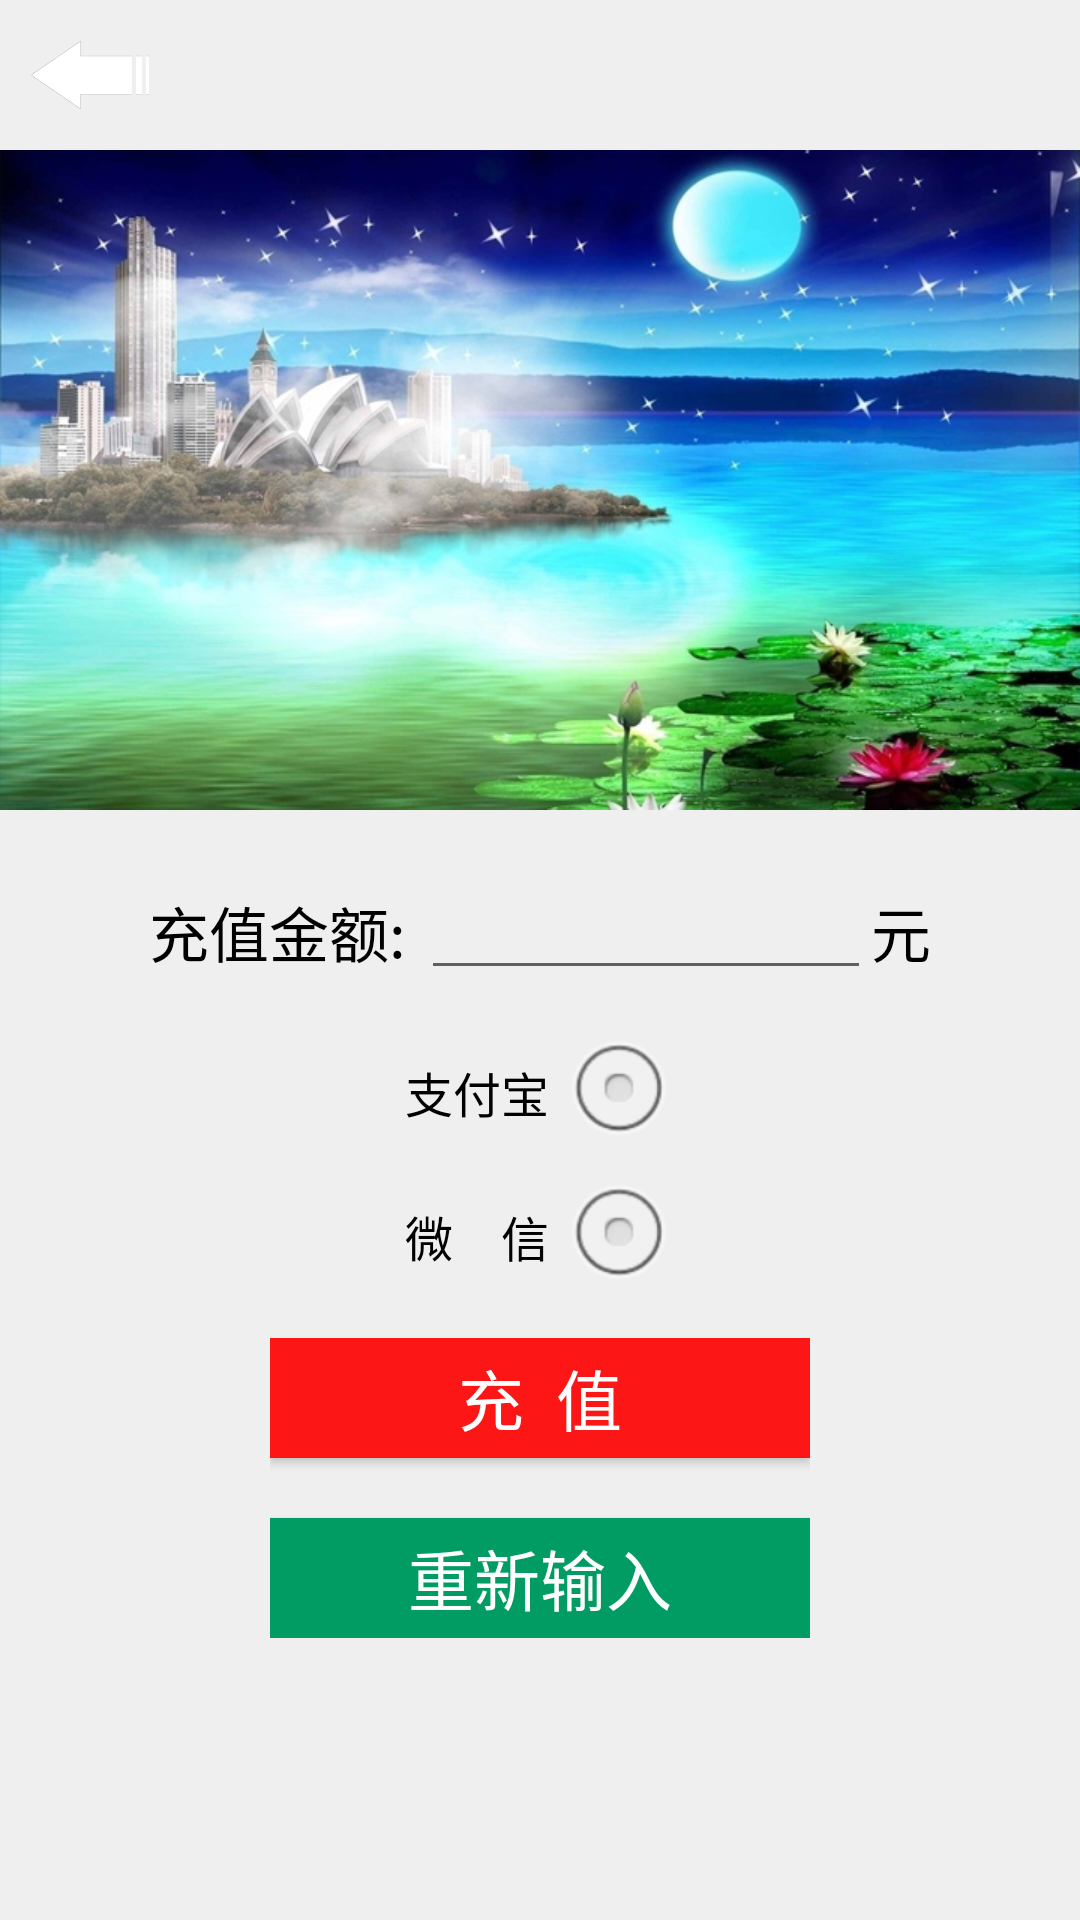

Icon bounding boxes for this 1080x1920 phone screenshot, format (x1, y1, x2, y2):
back: (33, 41, 81, 109)
